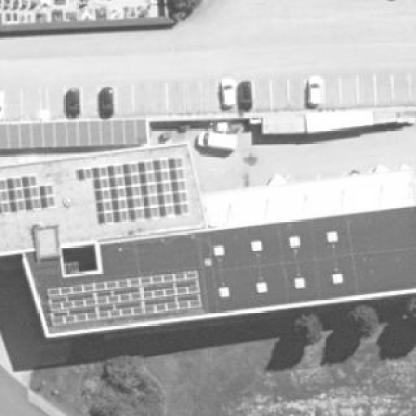solar-pv-panel: (75, 157, 190, 226), (0, 119, 147, 150), (50, 284, 198, 311), (49, 270, 197, 297), (51, 298, 200, 324), (0, 175, 57, 214)
